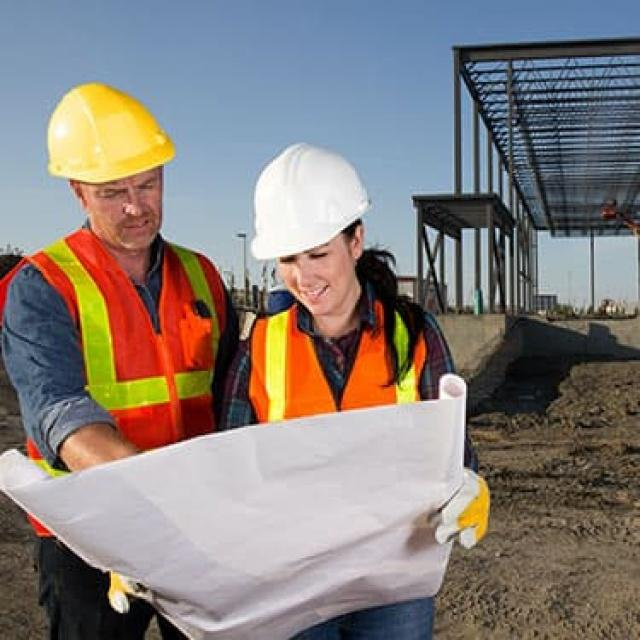helmet: (43, 108, 177, 331), (245, 181, 371, 416)
vest: (1, 322, 232, 594), (245, 392, 431, 552)
